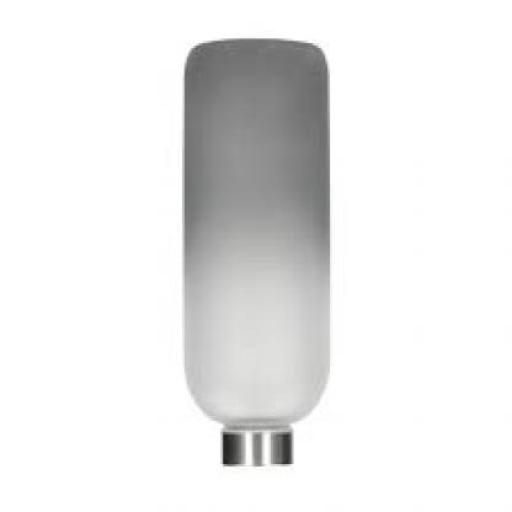glass: (187, 41, 334, 433)
metal: (223, 427, 298, 469)
